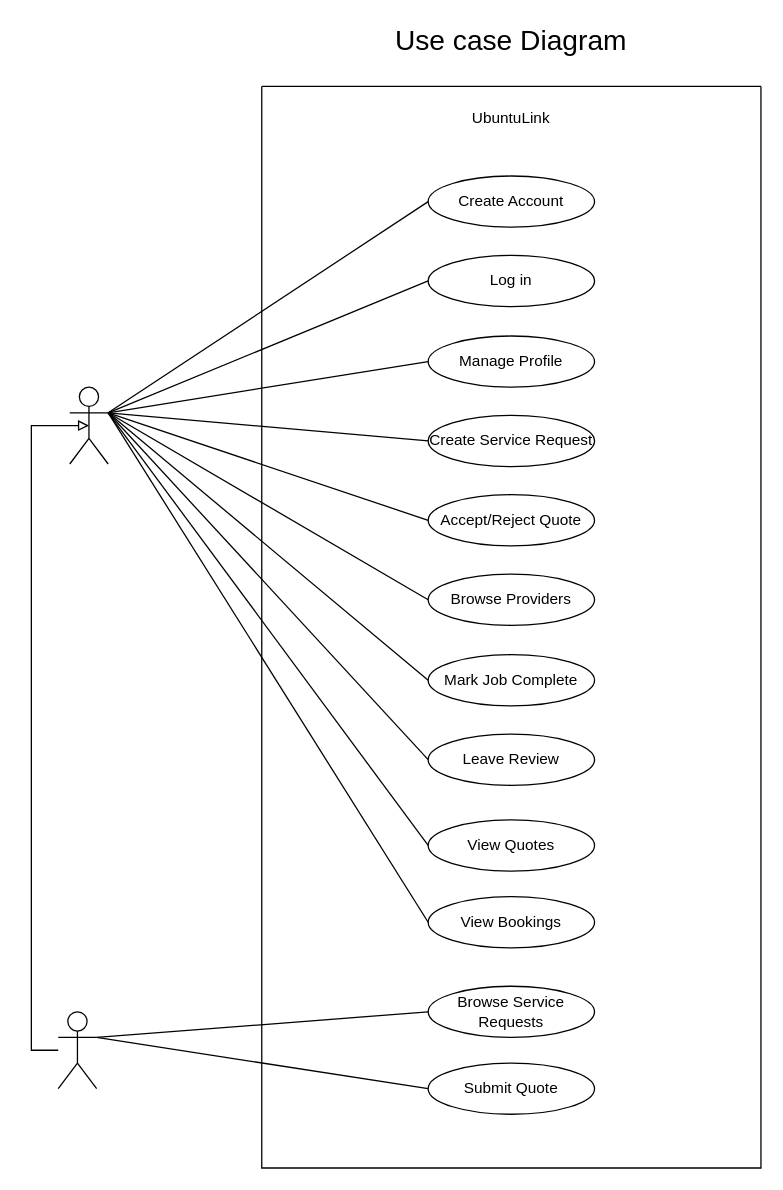
Image size: 783x1190. Some labels were removed from this diagram. The box of each missing label's shape, as (x1, y1, x2, y2) in pixels:
Provider: (57, 1011, 97, 1089)
User: (68, 386, 108, 464)
